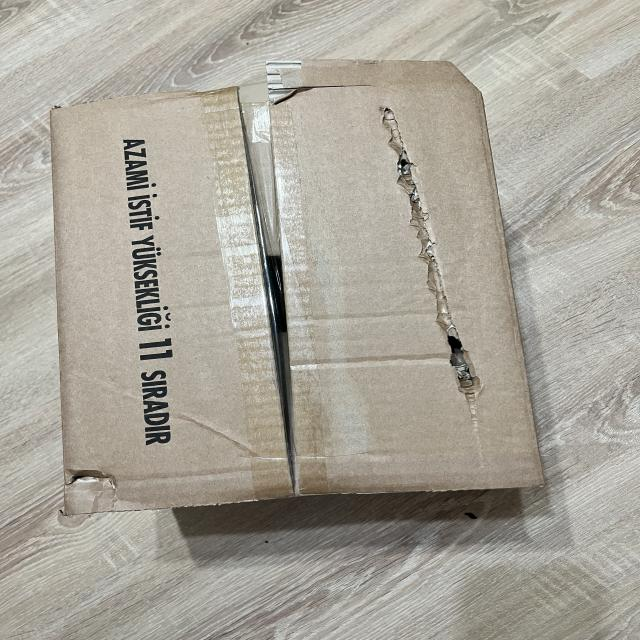damaged: (38, 54, 565, 541), (371, 87, 503, 403), (55, 451, 131, 524), (266, 75, 366, 119), (433, 52, 492, 111)
